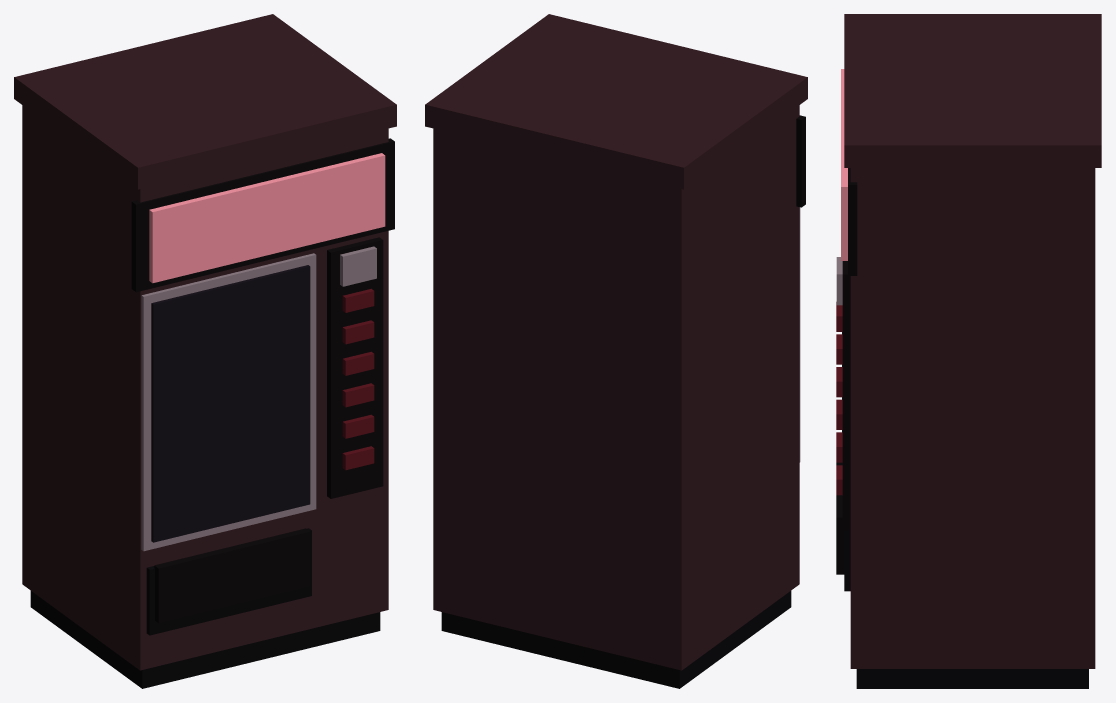
Rendered from SM_VendingMachine_01.obj.
3 views of the same model, side by side, from view 1: azimuth 30°, elevation 25°; view 2: azimuth 150°, elevation 25°; view 3: azimuth 270°, elevation 25° (orthographic). The views are drawn at different scales.
Visible parts, largest first — view 1: cabinet_body, cabinet_top, door_glass, brand_header, button_column, dispense_flap, door_frame, plinth, header_frame, dispense_tray, coin_slot, button_0 (+5 smaller); view 2: cabinet_body, cabinet_top, plinth, header_frame; view 3: cabinet_body, cabinet_top, plinth, button_column, brand_header, header_frame, dispense_flap, dispense_tray.
Part boxes in pixels (x1,y1,x2,y2): cabinet_body: [22, 105, 388, 670]; cabinet_top: [14, 14, 396, 189]; door_glass: [151, 265, 310, 542]; brand_header: [149, 153, 385, 283]; button_column: [327, 237, 383, 498]; dispense_flap: [154, 528, 310, 623]; door_frame: [141, 253, 316, 551]; plinth: [30, 591, 380, 688]; header_frame: [131, 138, 394, 292]; dispense_tray: [146, 528, 311, 635]; coin_slot: [340, 246, 376, 286]; button_0: [342, 446, 374, 470]; cabinet_body: [433, 105, 799, 670]; cabinet_top: [425, 14, 807, 189]; plinth: [441, 591, 791, 688]; header_frame: [796, 115, 805, 207]; cabinet_body: [850, 168, 1095, 668]; cabinet_top: [844, 14, 1101, 167]; plinth: [856, 669, 1088, 688]; button_column: [842, 261, 850, 530]; brand_header: [841, 69, 847, 260]; header_frame: [848, 168, 857, 275]; dispense_flap: [836, 462, 844, 574]; dispense_tray: [844, 530, 850, 591].
Bounding box in the file's own units: 0.99 × 1.93 × 0.845.
